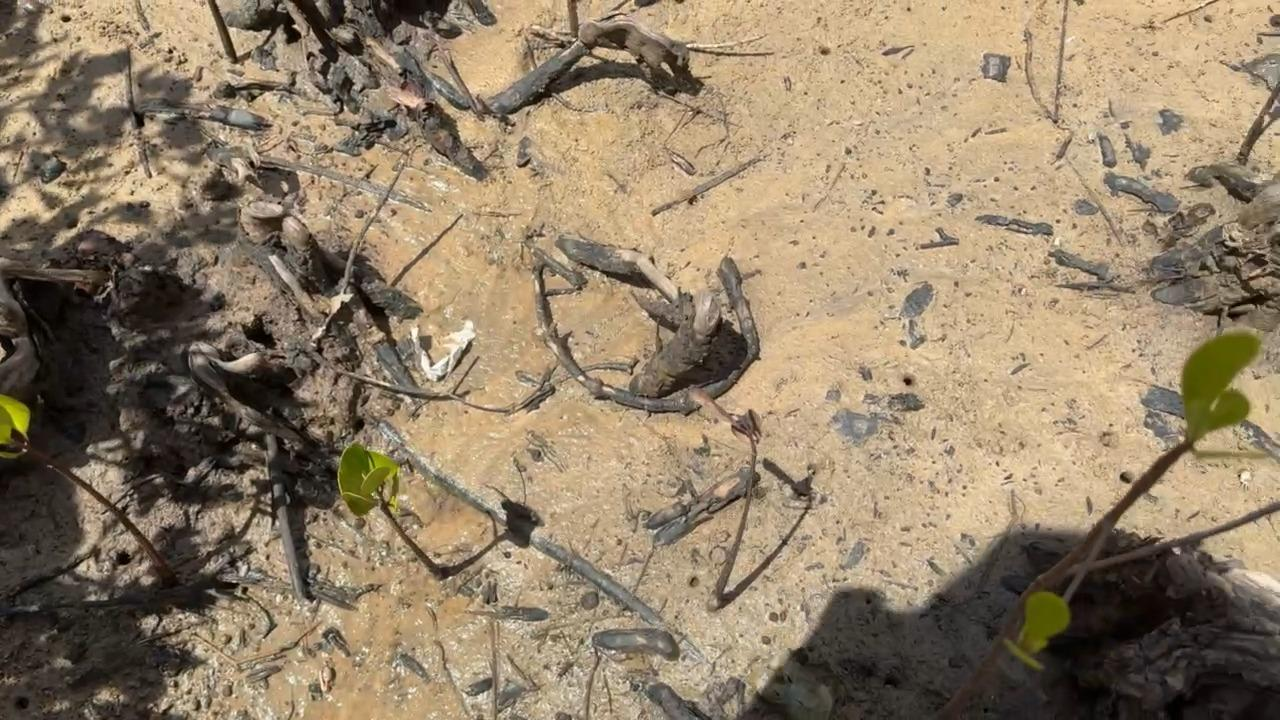Tree: (929, 329, 1280, 720), (0, 395, 176, 584), (339, 444, 441, 578)
